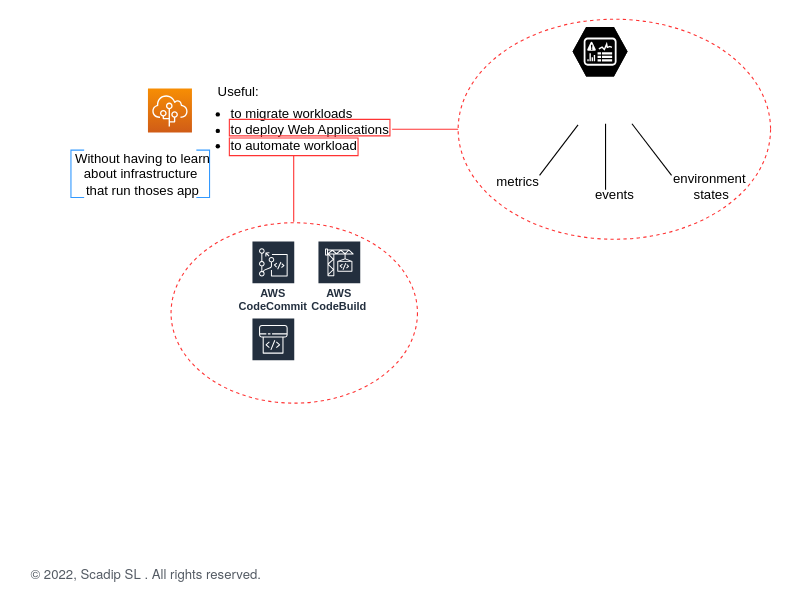
Image size: 790x604. Some labels were removed from this diagram. Each missing label, with the box of its shape:
AWS CodePipeline: (250, 316, 295, 394)
Elastic Beanstalk Console: (571, 26, 628, 76)
